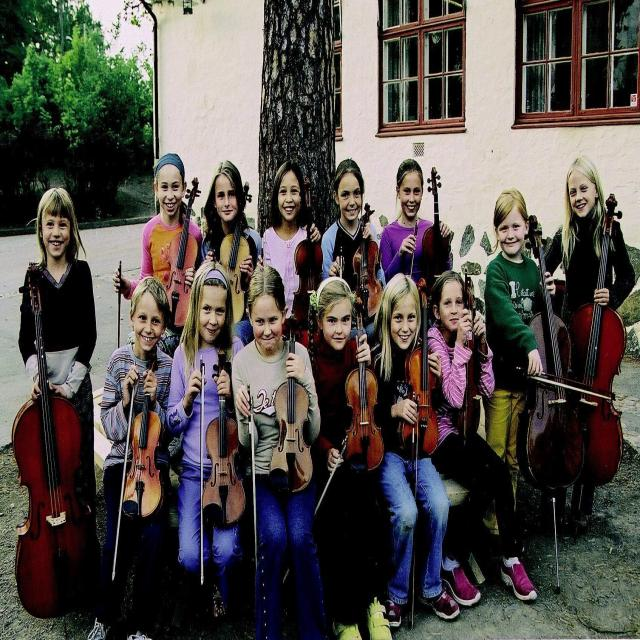cello: (15, 274, 101, 624), (516, 215, 586, 492), (566, 193, 626, 491)
violin: (201, 351, 249, 528), (268, 314, 314, 493), (340, 292, 385, 473), (396, 278, 440, 462), (122, 358, 165, 526), (161, 176, 204, 324), (289, 178, 324, 328), (455, 271, 486, 440), (214, 182, 250, 324), (420, 164, 452, 300), (350, 201, 384, 314)
